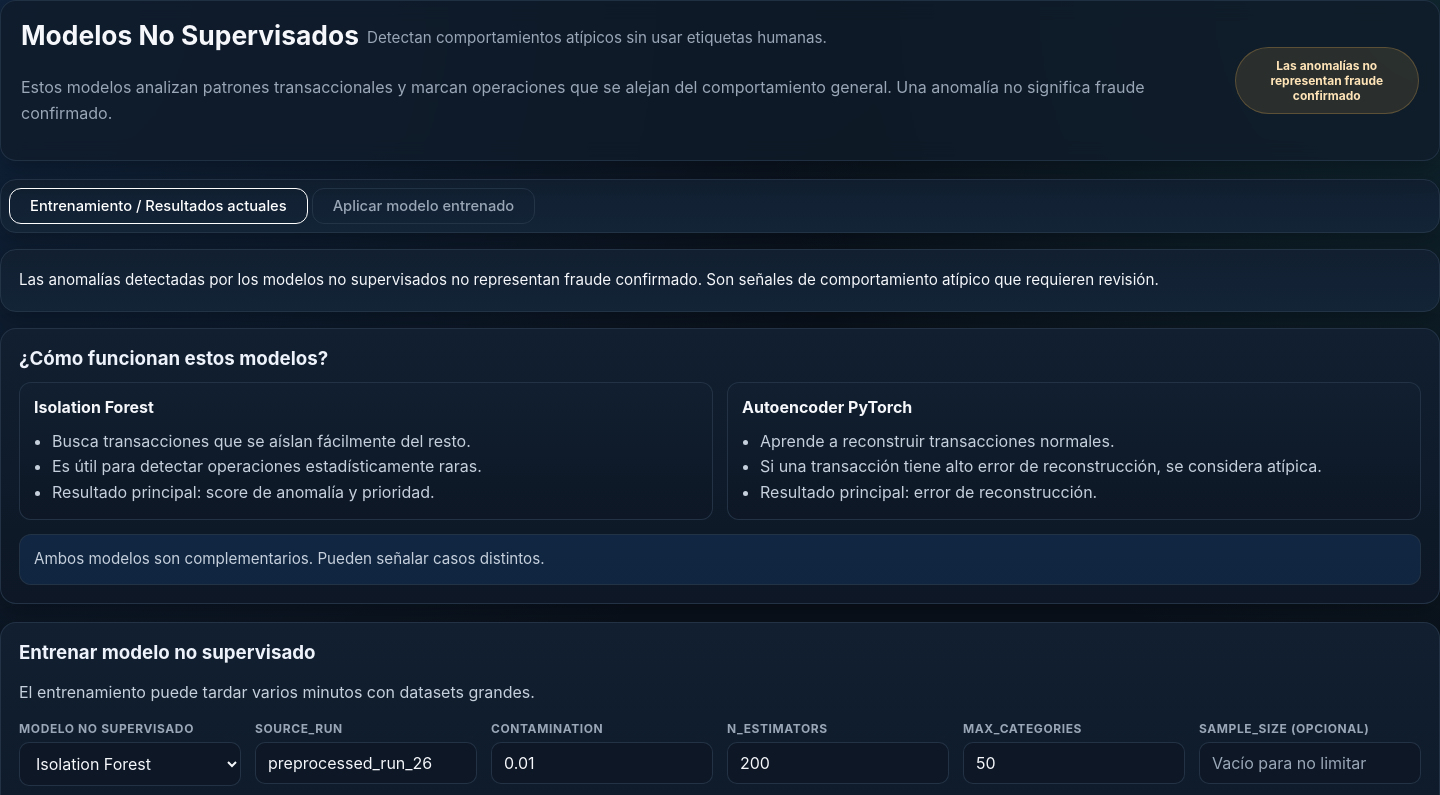
Test: Models page › shows controlled PyTorch dependency message for Autoencoder
Select "Autoencoder PyTorch" in the dropdown labelled "Modelo no supervisado". click: {"x": 130, "y": 764}
box: [19, 742, 241, 786]
(page scrolled)
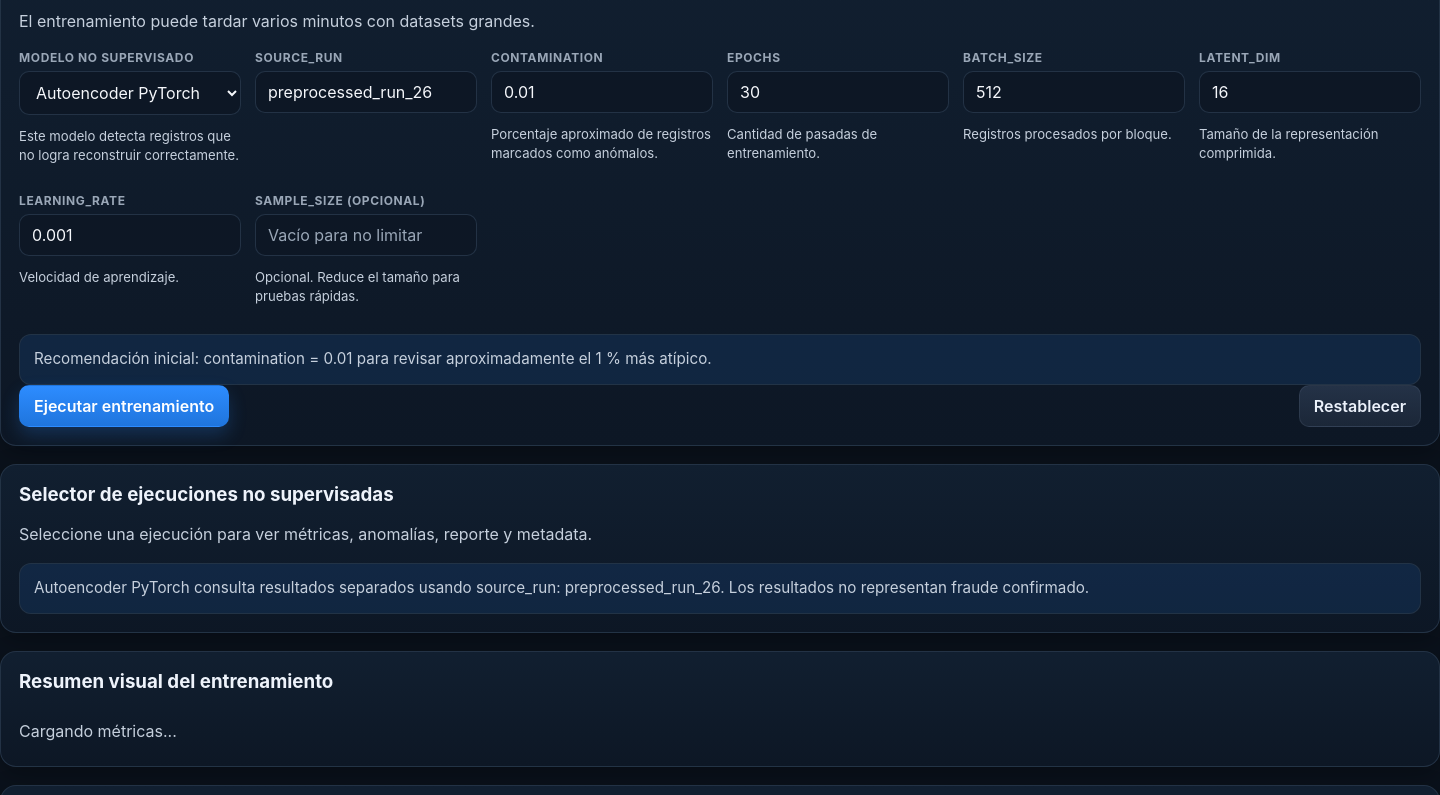
Click the button "Ejecutar entrenamiento". click: {"x": 124, "y": 406}
box: [19, 385, 229, 427]
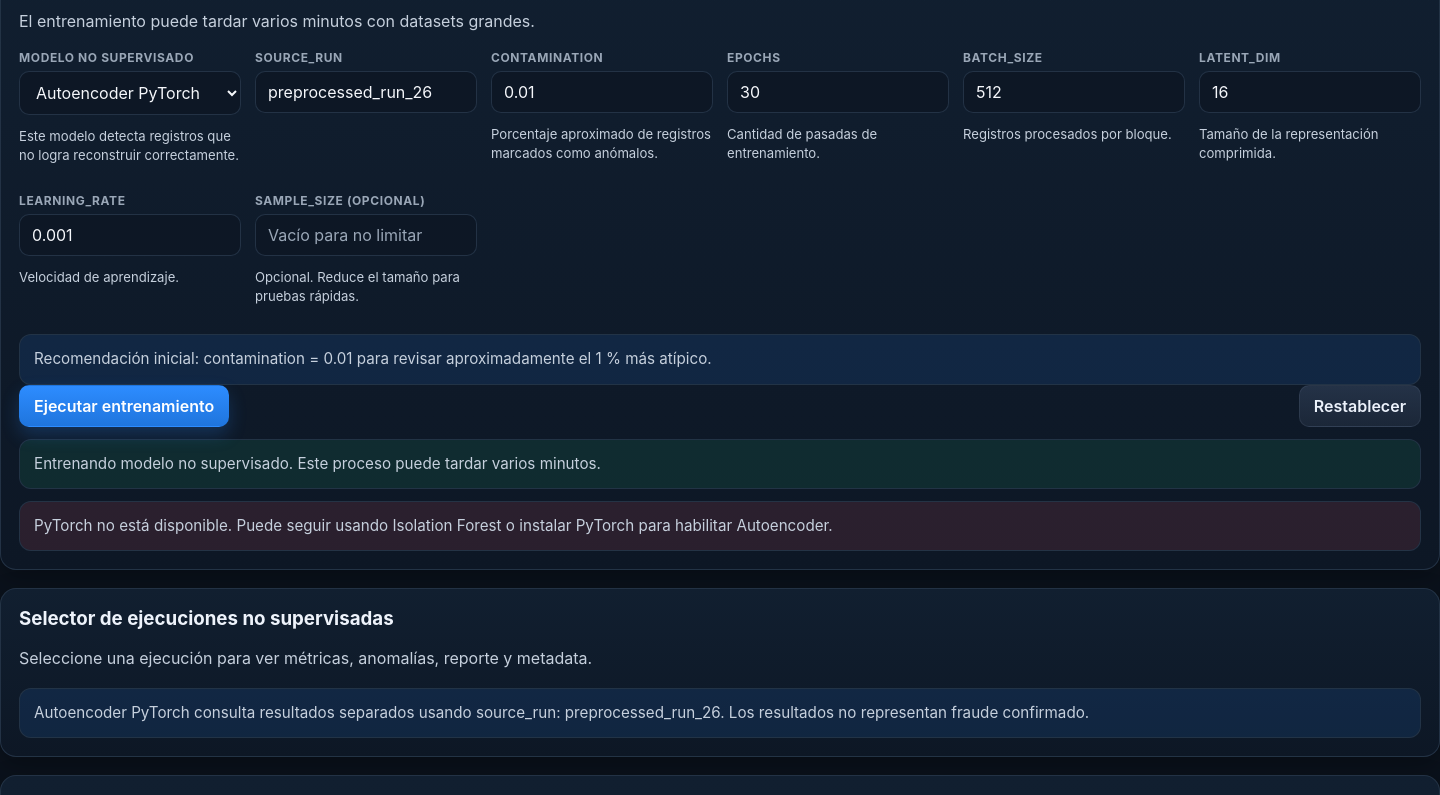
Expected: the text "PyTorch no está disponible. Puede seguir usando Isolation Forest o instalar PyTorch para habilitar Autoencoder." is shown, [34, 516, 833, 535]
